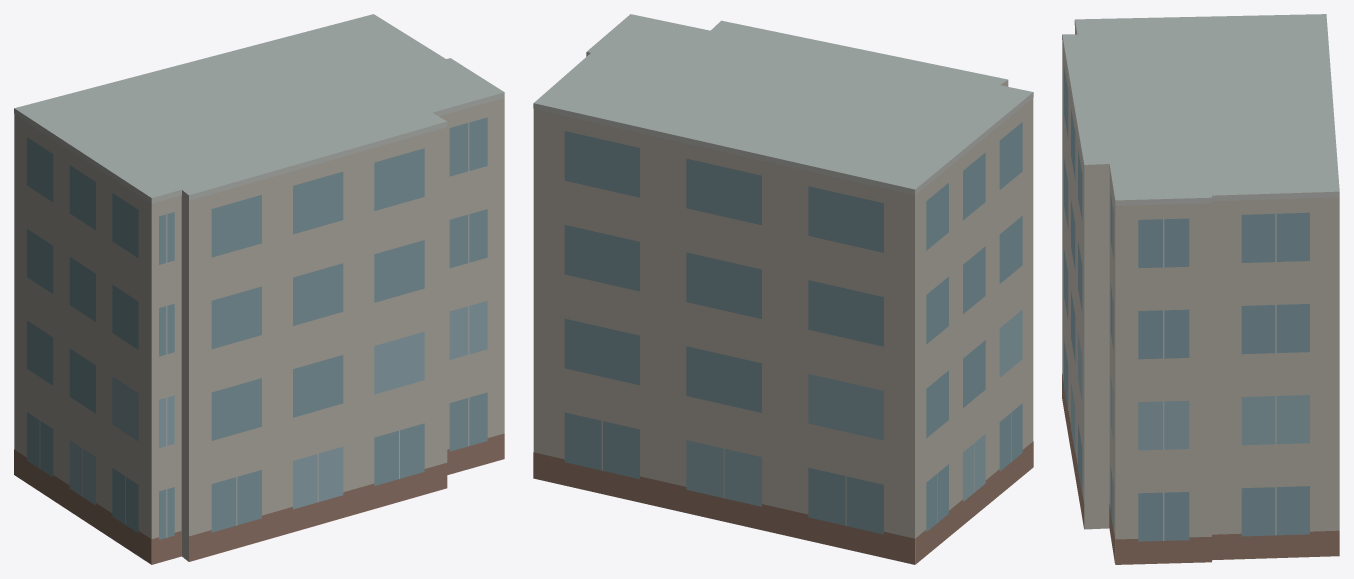
File: survey-upis-32622335.glb
The picture shows the model from 3 angles, left to right: view 1: azimuth 30°, elevation 25°; view 2: azimuth 150°, elevation 25°; view 3: azimuth 270°, elevation 25°; orthographic projection. The views are drawn at different scales.
Parts seen in each view (by area): view 1: survey-upis-32622335.tmp; view 2: survey-upis-32622335.tmp; view 3: survey-upis-32622335.tmp.
Part boxes in pixels (x1,y1,x2,y2): survey-upis-32622335.tmp: (14, 14, 504, 564); survey-upis-32622335.tmp: (533, 14, 1033, 564); survey-upis-32622335.tmp: (1062, 14, 1339, 564).
Size of the model in its own units: 17.67 by 16.1 by 11.12.
